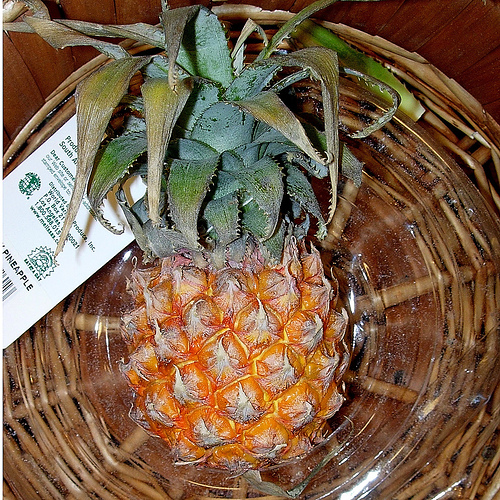pineapple: (0, 0, 426, 478)
